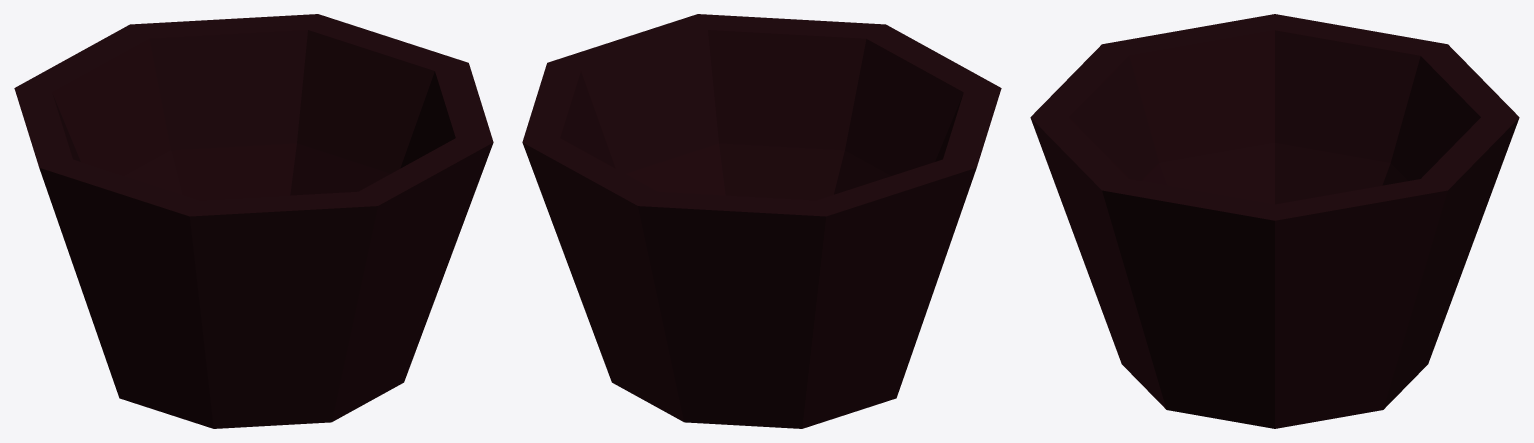
The model's file is COP.fbx.
3 renders of one model, left to right at view 1: azimuth 30°, elevation 25°; view 2: azimuth 150°, elevation 25°; view 3: azimuth 270°, elevation 25°, orthographic.
Visible parts, largest first — view 1: Circle; view 2: Circle; view 3: Circle.
Part boxes in pixels (x1,y1,x2,y2): Circle: (14,14,493,428); Circle: (522,14,1001,428); Circle: (1030,14,1519,428).
Bounding box in the file's own units: 398 × 221 × 398.
